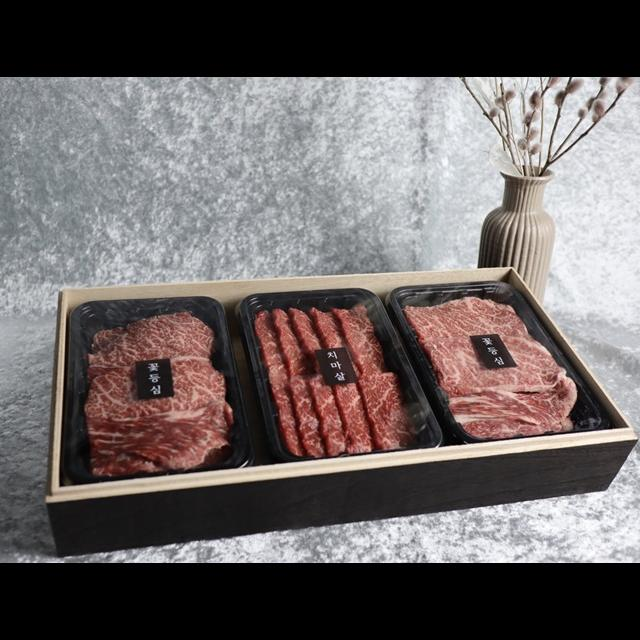beef: (78, 305, 562, 449)
